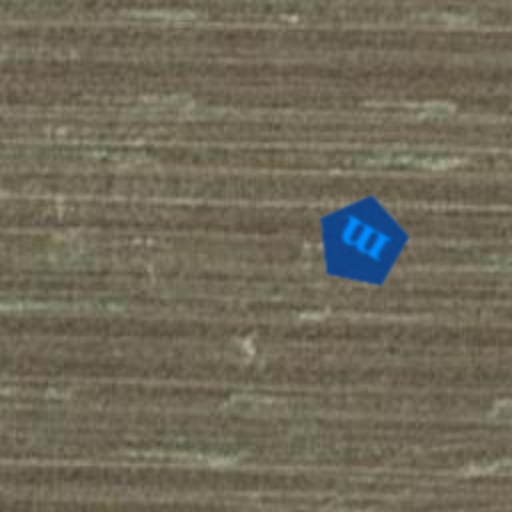pentagon: (296, 176, 428, 308)
